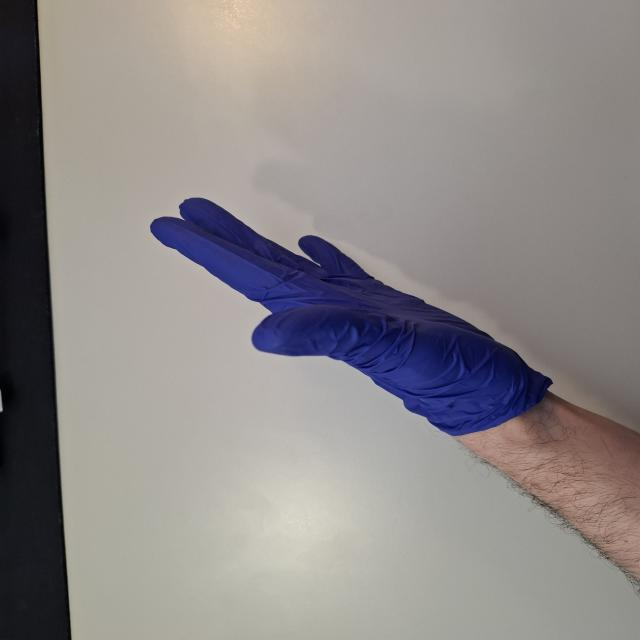glove_on: (148, 196, 530, 440)
